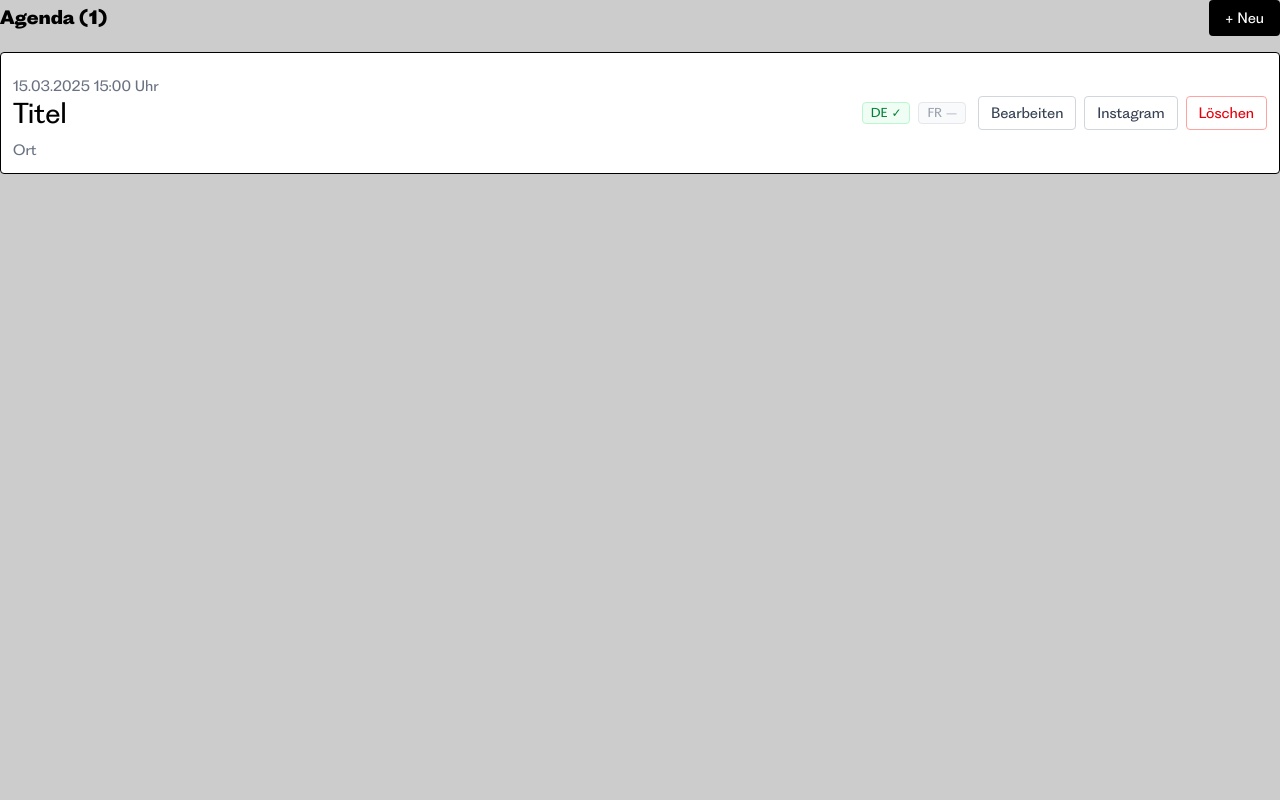
Test: AgendaSection — Sprint 1 Mode-Picker + Slot-Grid + Drag-Reorder › emptyForm: new agenda item shows 1 empty slot (cols=1, visibleSlotCount=1)
The image size is (1280, 800).
Click the button "+ Neu". click: [1245, 18]
box: [1209,0,1279,36]
(page scrolled)
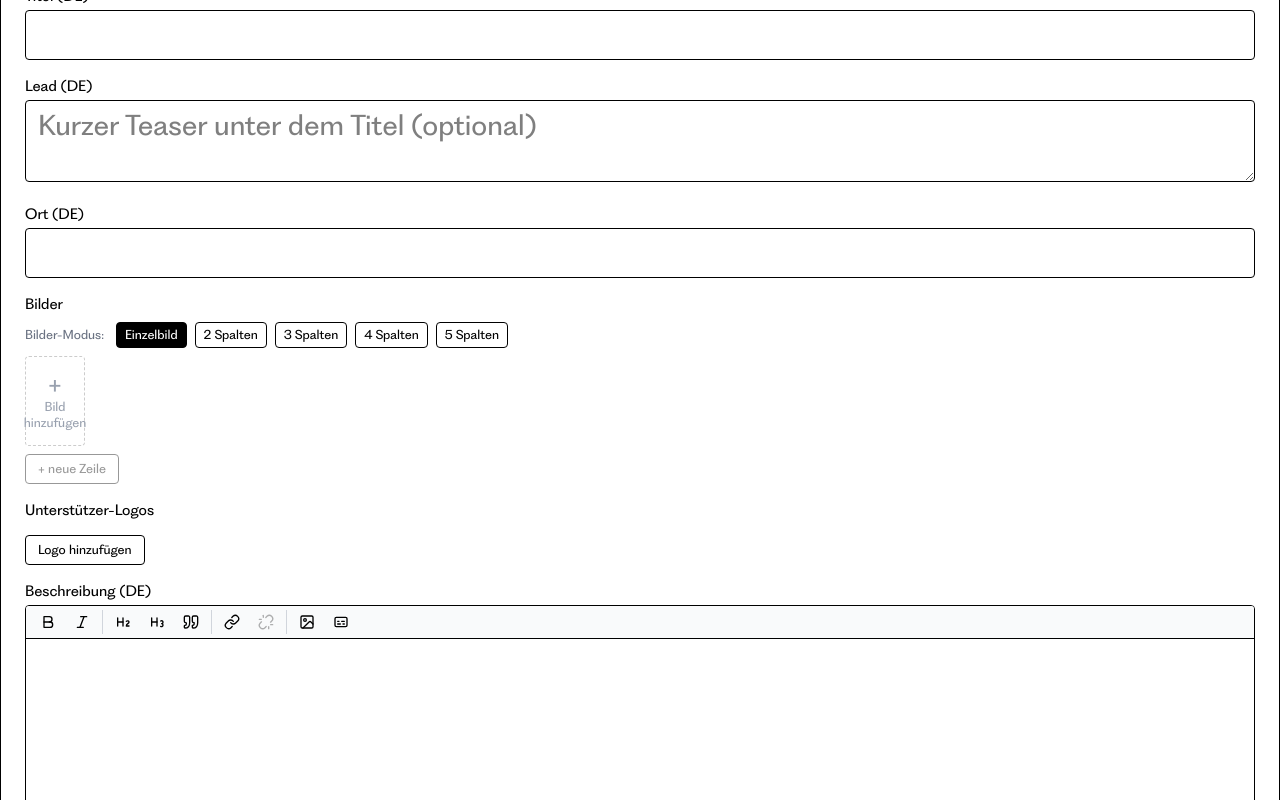
Expected: the element with test id "slot-empty-0" is shown, [25,356,85,446]
